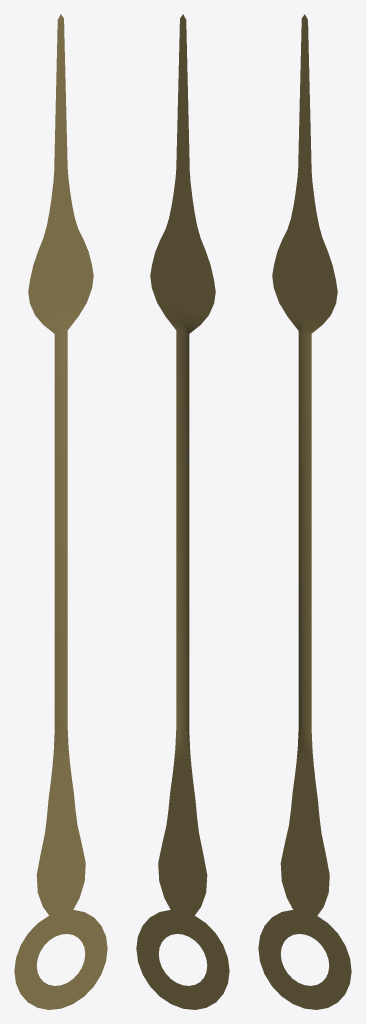
File: mdl_hub_goldminutehand.gltf
3 renders of one model, left to right at view 1: azimuth 30°, elevation 25°; view 2: azimuth 150°, elevation 25°; view 3: azimuth 330°, elevation 25°, orthographic.
Parts seen in each view (by area): view 1: minute; view 2: minute; view 3: minute.
Boxes of the visible parts, x1=… form: minute: x1=14, y1=14, x2=107, y2=1009; minute: x1=136, y1=14, x2=229, y2=1009; minute: x1=258, y1=14, x2=351, y2=1009.
Bounding box in the file's own units: 0.0162 × 0.1646 × 0.000732.
